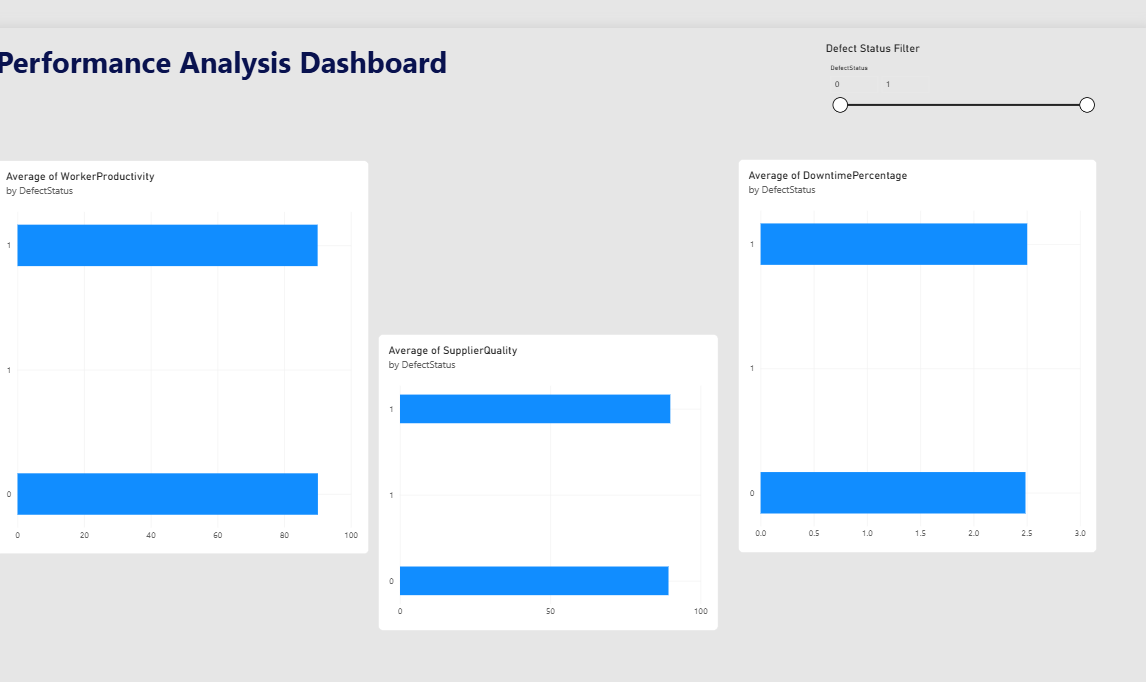

What the dashboard file says about the page in this screenshot:
{"tool":"powerbi","page":{"name":"Performance Analysis","canvas":[1920,1080],"ordinal":1},"visuals":[{"type":"clusteredBarChart","fields":{"Category":["manufacturing_defect_dataset.DefectStatus"],"Y":["Avg(manufacturing_defect_dataset.WorkerProductivity)"]},"box":[14,218,614,648],"z":0},{"type":"clusteredBarChart","fields":{"Category":["manufacturing_defect_dataset.DefectStatus"],"Y":["Avg(manufacturing_defect_dataset.SupplierQuality)"]},"box":[644,504,560,488],"z":1000},{"type":"clusteredBarChart","fields":{"Category":["manufacturing_defect_dataset.DefectStatus"],"Y":["Avg(manufacturing_defect_dataset.DowntimePercentage)"]},"box":[1238,216,590,648],"z":2000},{"type":"textbox","box":[14,22,1072,102],"z":3000},{"type":"slicer","title":"Defect Status Filter","fields":{"Values":["manufacturing_defect_dataset.DefectStatus"]},"box":[1382,22,446,150],"z":3001}]}

Visuals, with their boxes on the page's 1920x1080 design canvas (x1, y1, x2, y2). These are canvas units, not pixel positions in the 1146x682 screenshot, which may show the page scaled, cropped or inside an application window:
clusteredBarChart - manufacturing_defect_dataset.DefectStatus x Avg(manufacturing_defect_dataset.WorkerProductivity): bbox(14, 218, 628, 866)
clusteredBarChart - manufacturing_defect_dataset.DefectStatus x Avg(manufacturing_defect_dataset.SupplierQuality): bbox(644, 504, 1204, 992)
clusteredBarChart - manufacturing_defect_dataset.DefectStatus x Avg(manufacturing_defect_dataset.DowntimePercentage): bbox(1238, 216, 1828, 864)
textbox: bbox(14, 22, 1086, 124)
"Defect Status Filter" slicer: bbox(1382, 22, 1828, 172)
